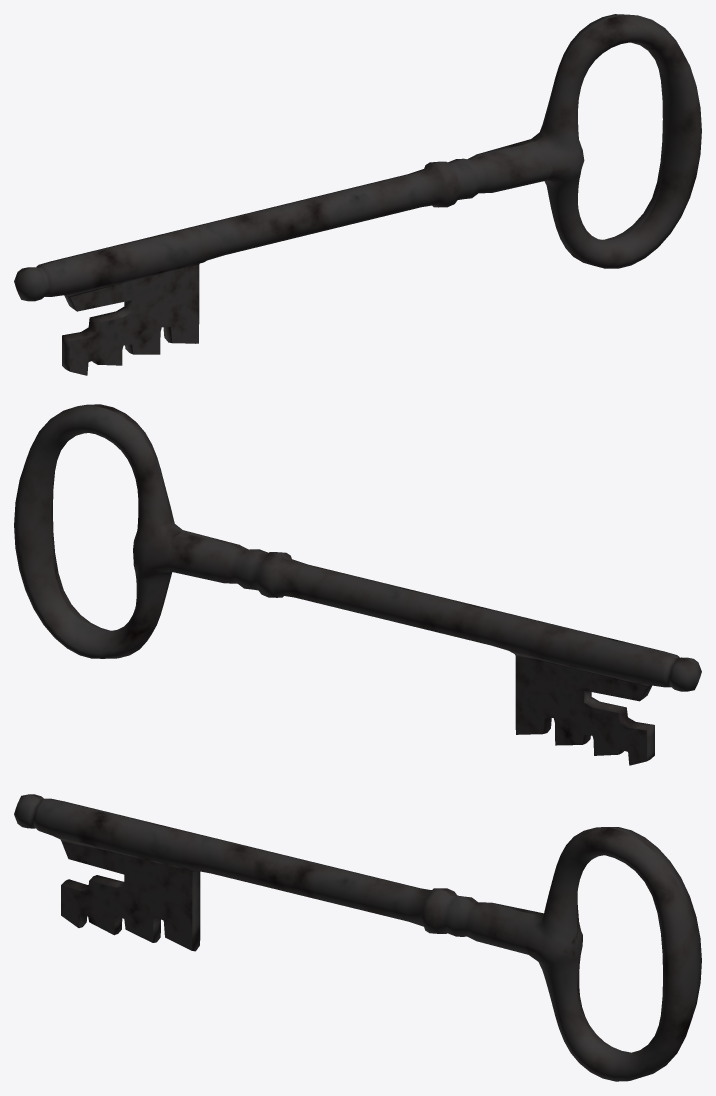
File: old_key.glb
3 views of the same model, one above another, from view 1: azimuth 30°, elevation 25°; view 2: azimuth 150°, elevation 25°; view 3: azimuth 330°, elevation 25° (orthographic).
Visible parts, largest first — view 1: Old Key; view 2: Old Key; view 3: Old Key.
Boxes of the visible parts, bbox=[...] form: Old Key: bbox=[14, 14, 701, 375]; Old Key: bbox=[14, 404, 701, 765]; Old Key: bbox=[14, 794, 701, 1081].
Bounding box in the file's own units: 762 × 267 × 59.47.
1 material, 1 textured.
